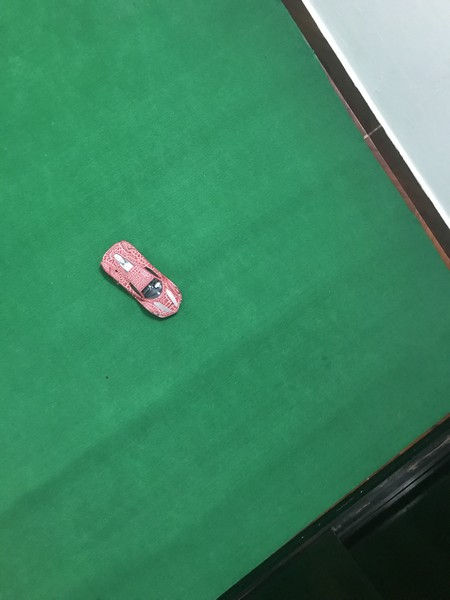RC: (99, 240, 187, 322)
